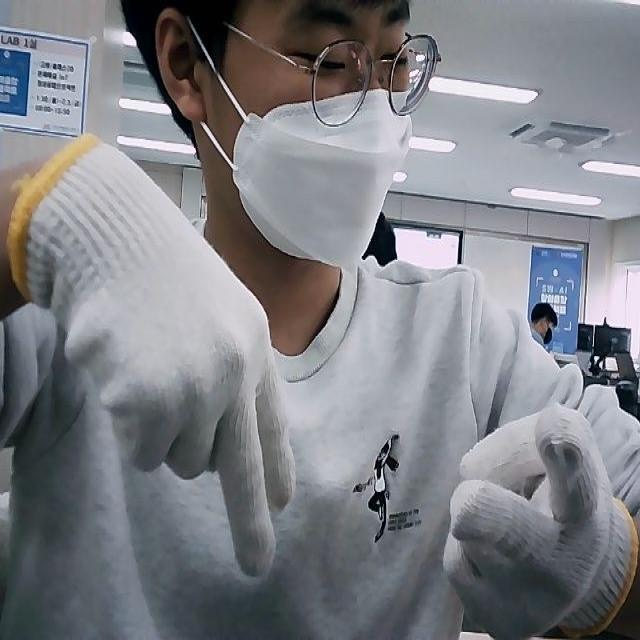Guantes: (6, 129, 298, 578), (441, 402, 638, 640)
